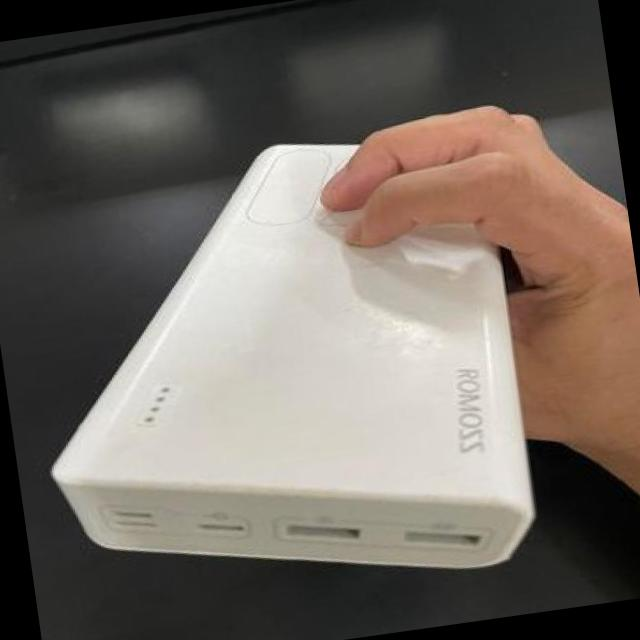power_bank: (0, 89, 580, 634)
